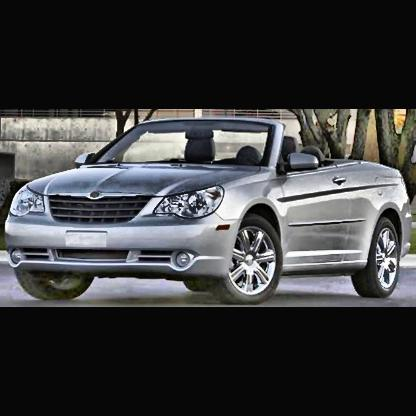Chrysler Sebring Convertible 2010: (5, 116, 413, 305)
